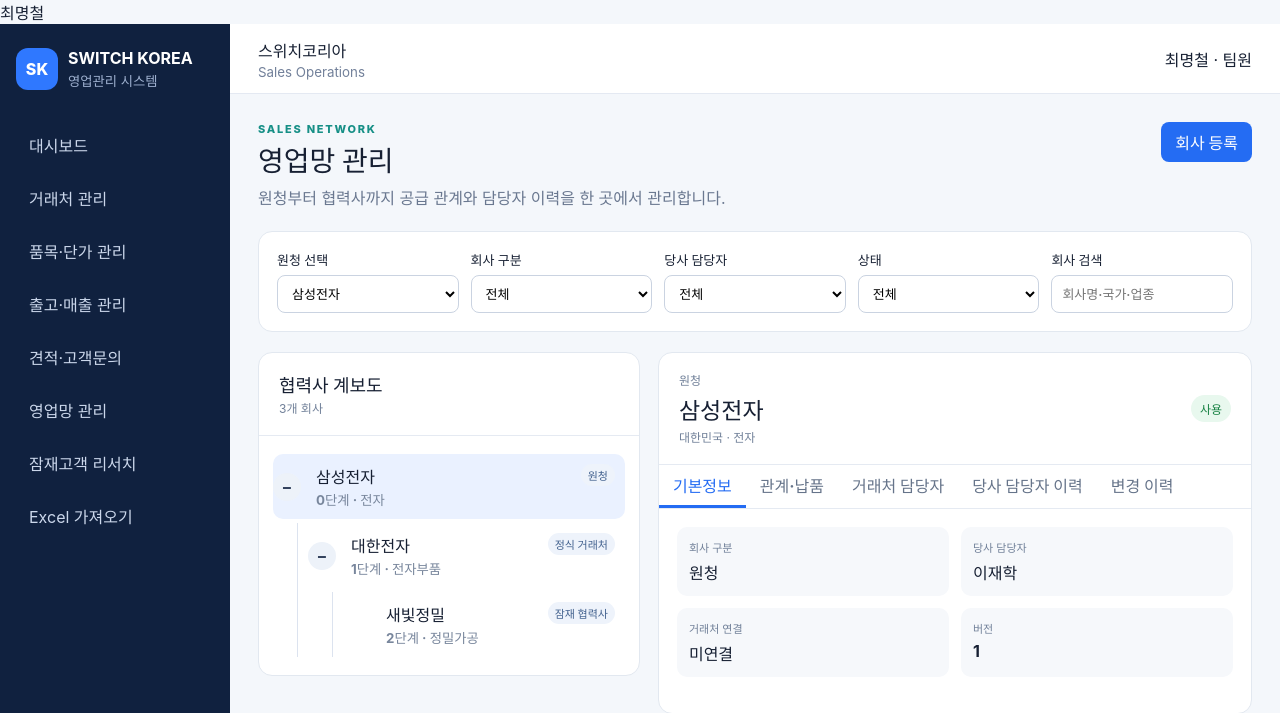
Scenario: locks member company registration to a prospect owned by the current user
The image size is (1280, 713).
Step 1. Click the button "회사 등록" → (1207, 142), box [1161,122,1252,162]
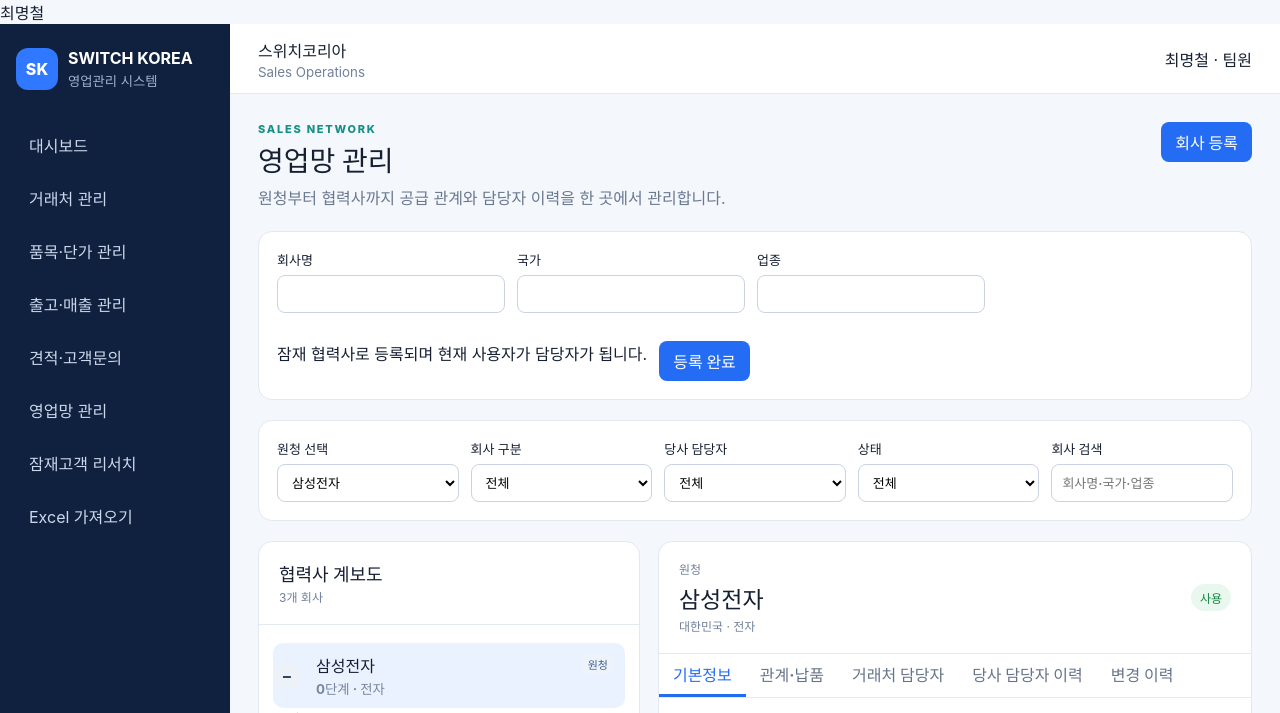
Now the form named "영업망 회사 등록" is shown, box [258,231,1252,400]
Now the text "잠재 협력사로 등록되며 현재 사용자가 담당자가 됩니다." is shown, box [277,341,647,365]
